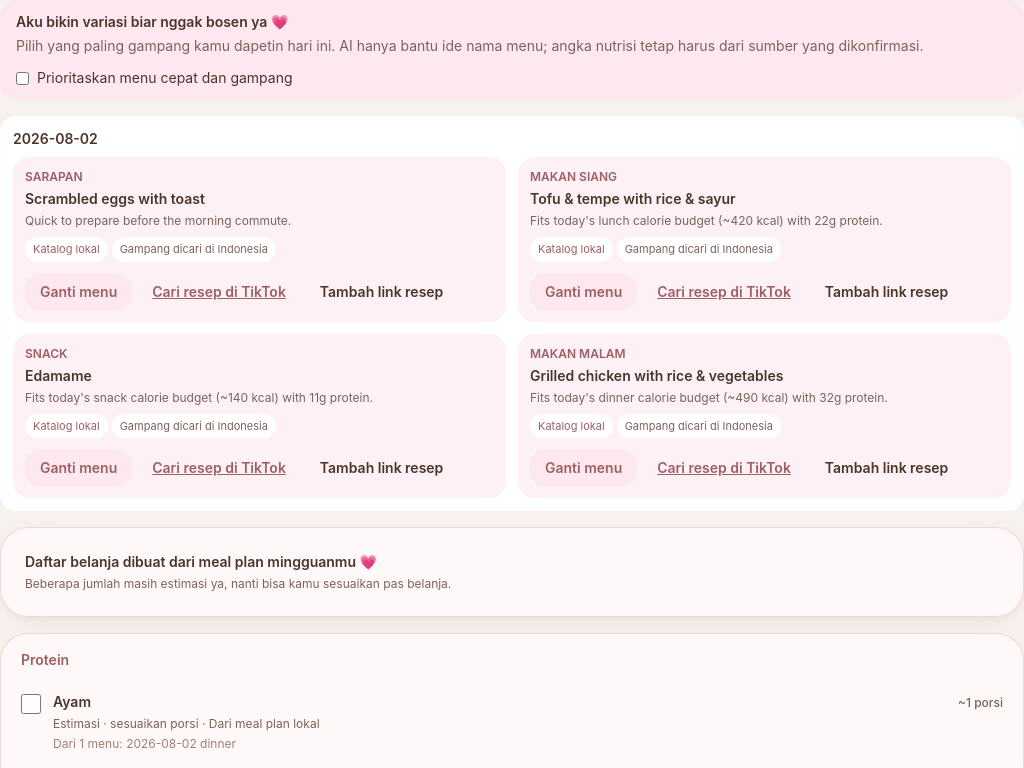
Test: WeeklyMealPlanExperience › renders practical provenance, recipe search, and changes a menu into shopping
Check: the text "Aku bikin variasi biar nggak bosen ya 💗" is shown, box [16, 13, 288, 30]
Check: the text "Katalog lokal" below "Sarapan" is shown, box [33, 242, 100, 256]
Click the button "Ganti menu" below "Sarapan". click: {"x": 79, "y": 292}
box: [25, 274, 132, 310]
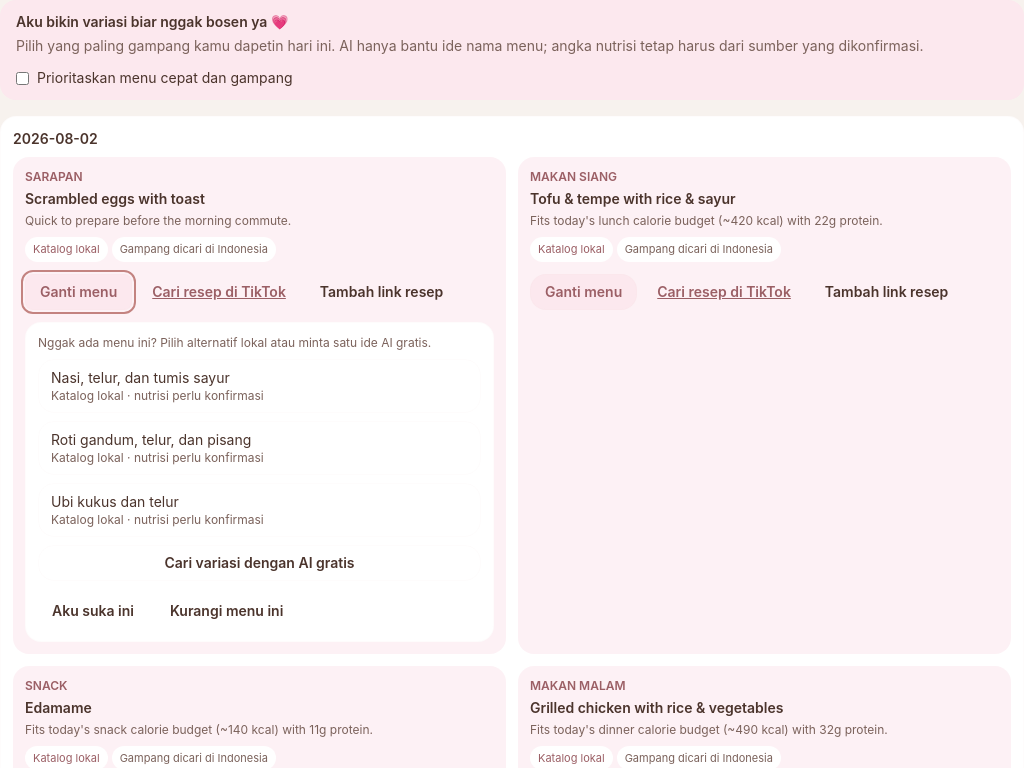
Click the button "Roti gandum, telur, dan pisang". click: {"x": 260, "y": 448}
box: [38, 420, 481, 474]
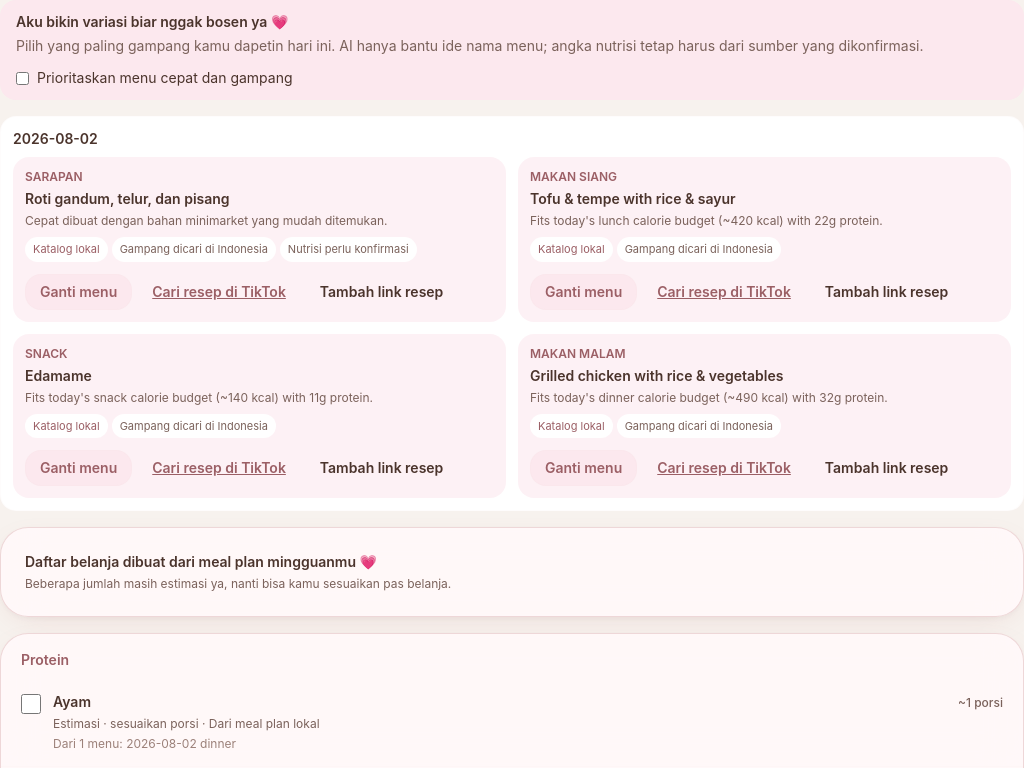
Check: the heading "Protein" is shown, box [21, 651, 69, 668]
Check: the text "Nutrisi perlu konfirmasi" is shown, box [280, 237, 417, 262]
Check: the text "Roti gandum, telur, dan pisang" is shown, box [25, 190, 230, 207]
